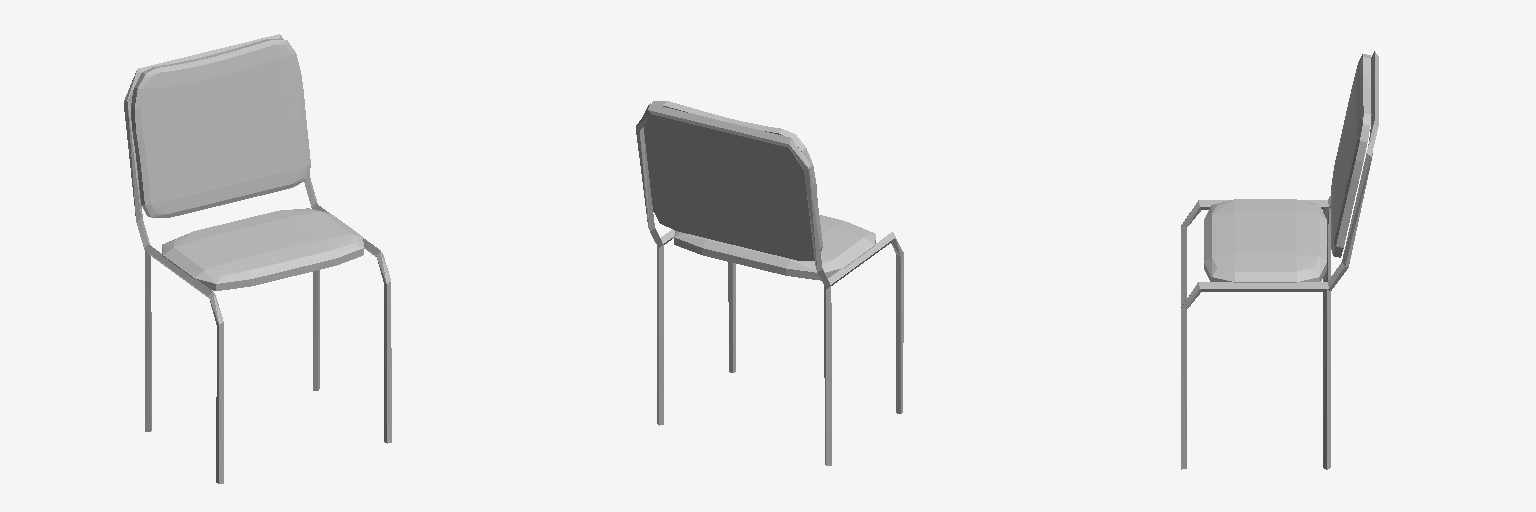
Rendered from cadeira.obj.
3 renders of one model, left to right at view 1: azimuth 30°, elevation 25°; view 2: azimuth 150°, elevation 25°; view 3: azimuth 270°, elevation 25°, orthographic.
Parts seen in each view (by area): view 1: o_Mesh.002_Chair2.001_None, o_Mesh.002_Chair2_o_Mesh.002_Chair2; view 2: o_Mesh.002_Chair2.001_None, o_Mesh.002_Chair2_o_Mesh.002_Chair2; view 3: o_Mesh.002_Chair2.001_None, o_Mesh.002_Chair2_o_Mesh.002_Chair2.
Boxes of the visible parts, box(x1,y1,x2,y2) form: o_Mesh.002_Chair2.001_None: box(131, 39, 363, 290); o_Mesh.002_Chair2_o_Mesh.002_Chair2: box(124, 34, 391, 483); o_Mesh.002_Chair2.001_None: box(644, 101, 875, 280); o_Mesh.002_Chair2_o_Mesh.002_Chair2: box(636, 103, 903, 465); o_Mesh.002_Chair2.001_None: box(1204, 54, 1371, 282); o_Mesh.002_Chair2_o_Mesh.002_Chair2: box(1181, 51, 1378, 469).
Bounding box in the file's own units: 40.93 × 76.84 × 40.15.